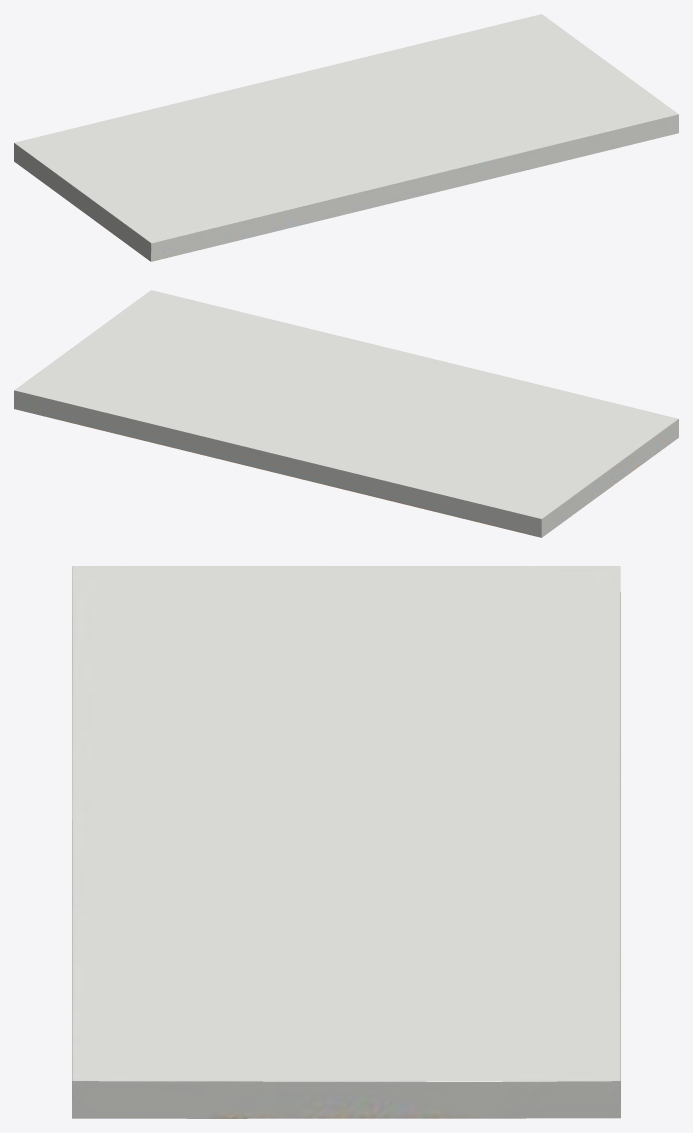
Rendered from 19 - LINNMON Table top - white 100x45 cm.glb.
The picture shows the model from 3 angles, top to bottom: view 1: azimuth 30°, elevation 25°; view 2: azimuth 150°, elevation 25°; view 3: azimuth 270°, elevation 25°; orthographic projection. The views are drawn at different scales.
Parts seen in each view (by area): view 1: 00596217-LINNMON001; view 2: 00596217-LINNMON001; view 3: 00596217-LINNMON001.
Part boxes in pixels (bbox=[...]): 00596217-LINNMON001: bbox=[14, 14, 678, 261]; 00596217-LINNMON001: bbox=[14, 290, 678, 537]; 00596217-LINNMON001: bbox=[72, 566, 620, 1118].
Bounding box in the file's own units: 1 × 0.0341 × 0.4501.
1 material, 1 textured.
